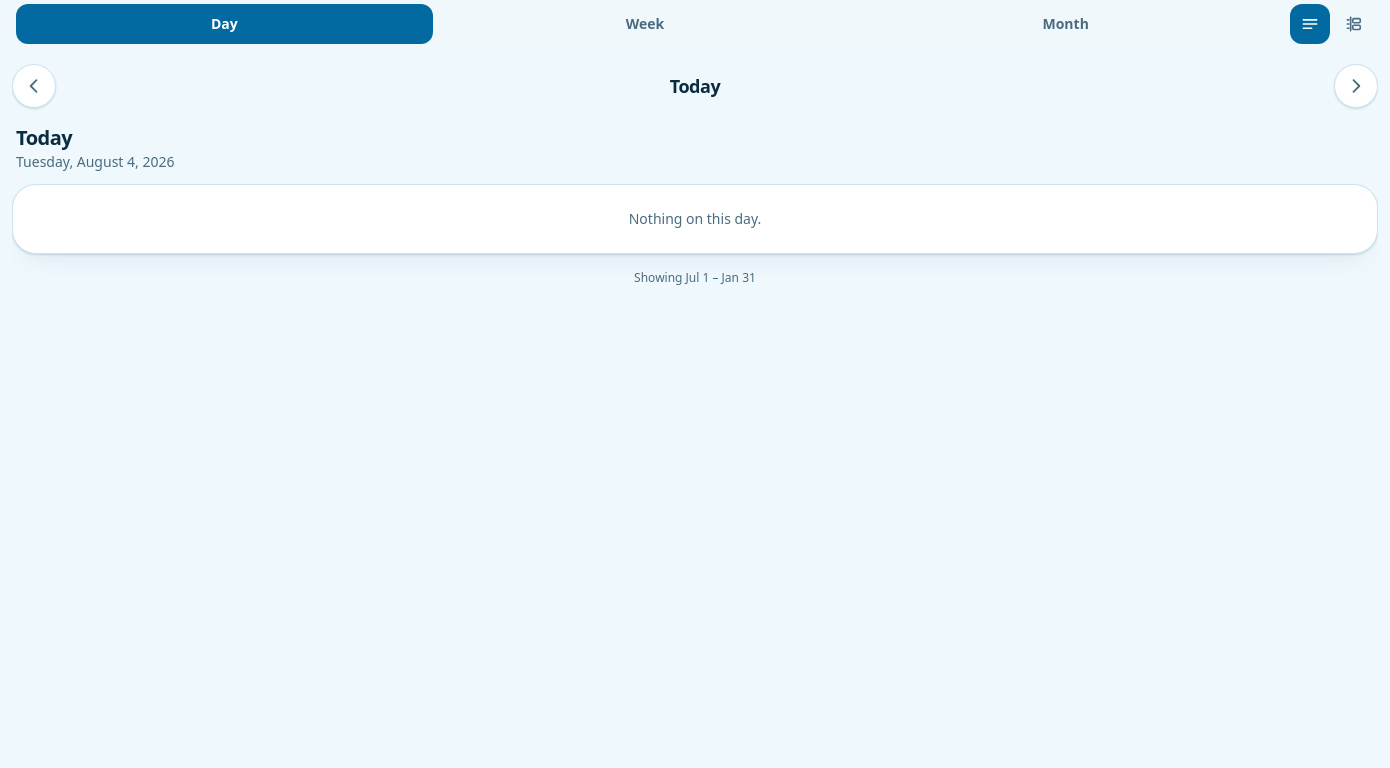
Test: the list / timeline toggle › opens a day from a column heading
The width and height of the screenshot is (1390, 768).
Click the tab "Week".
click(645, 24)  # box x1=437 y1=4 x2=853 y2=44
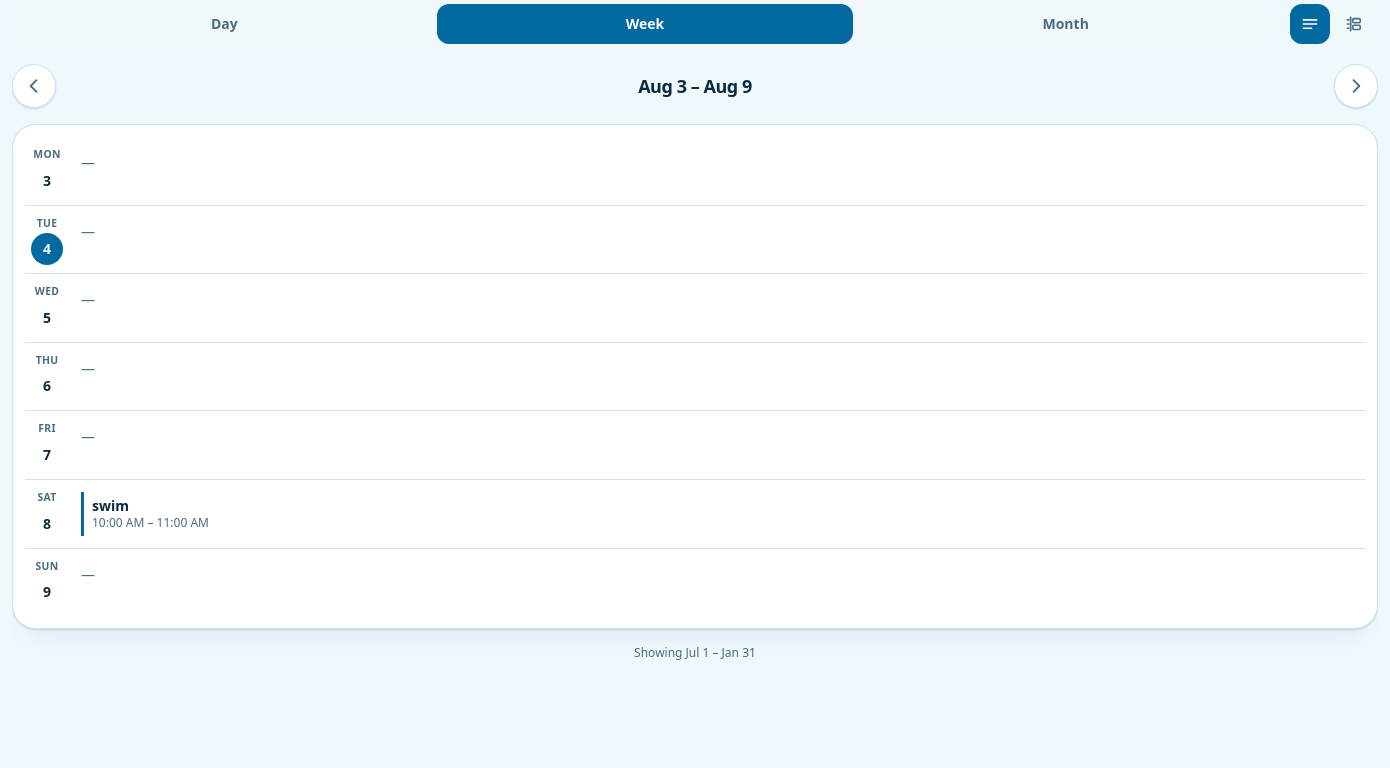
Click the button named "Timeline view".
click(1354, 24)  # box x1=1334 y1=4 x2=1374 y2=44
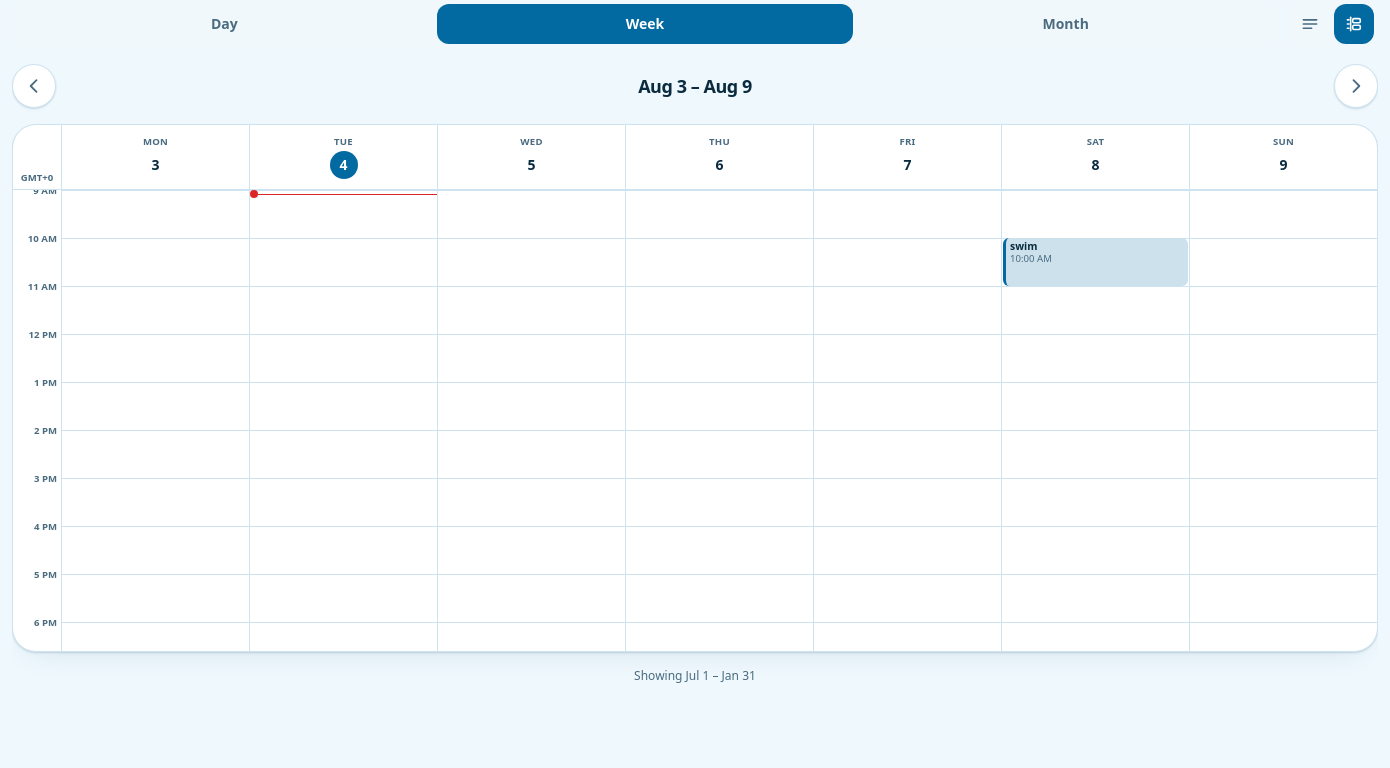
Click the button with aria-label "Open Saturday".
click(1096, 157)  # box x1=1006 y1=133 x2=1185 y2=181
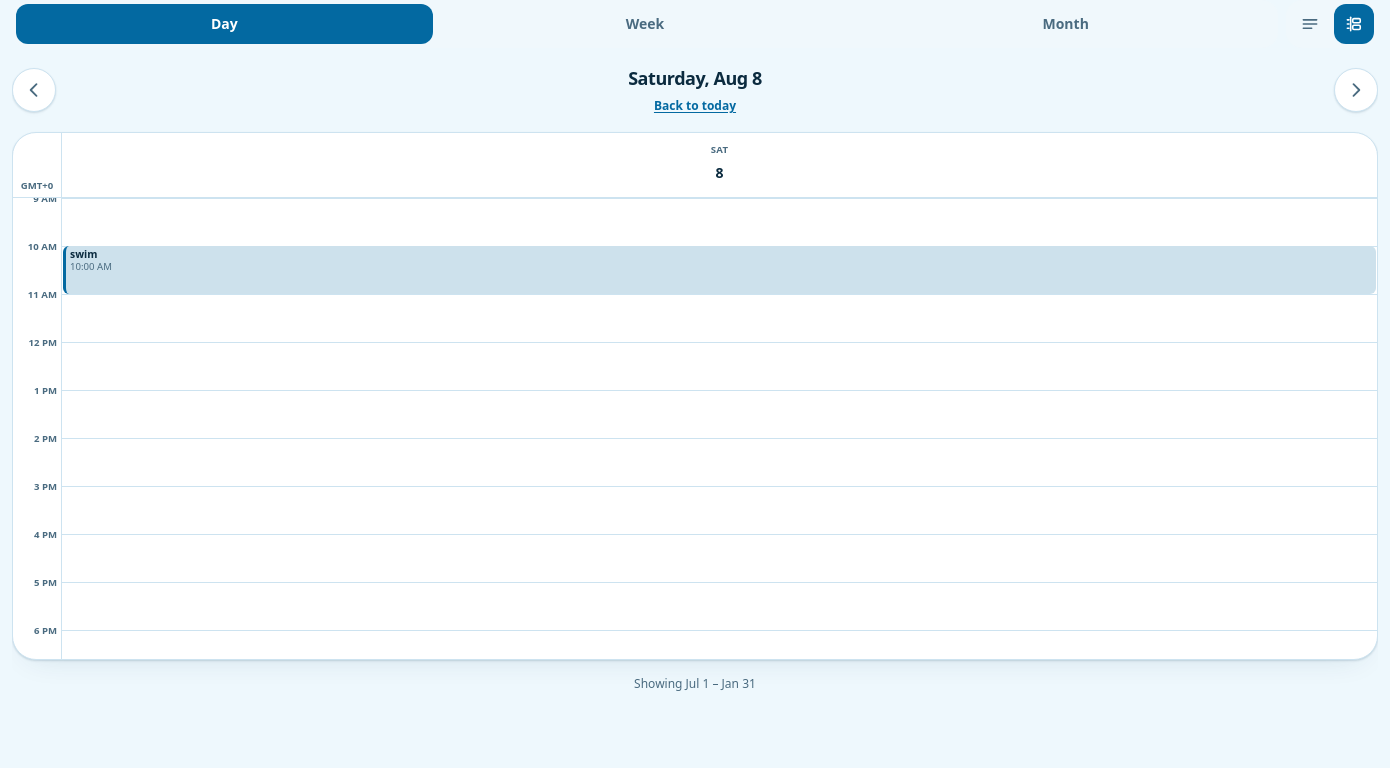
expect the element named "This day, by time" is shown: met
